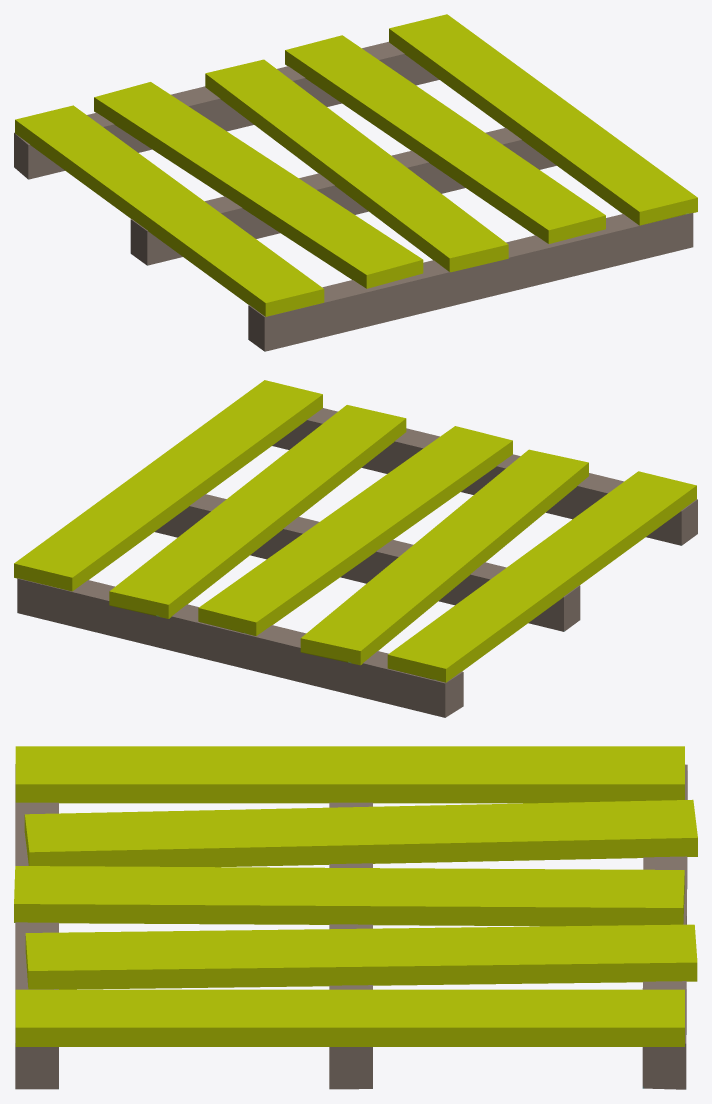
File: Pallet.fbx
3 views of the same model, one above another, from view 1: azimuth 30°, elevation 25°; view 2: azimuth 150°, elevation 25°; view 3: azimuth 270°, elevation 25° (orthographic). The views are drawn at different scales.
Parts seen in each view (by area): view 1: Pallet; view 2: Pallet; view 3: Pallet.
Boxes of the visible parts, left/top/right/bottom form: Pallet: left=14, top=14, right=697, bottom=351; Pallet: left=14, top=380, right=697, bottom=717; Pallet: left=14, top=746, right=697, bottom=1089.
Bounding box in the file's own units: 17.64 × 1.88 × 18.03.
